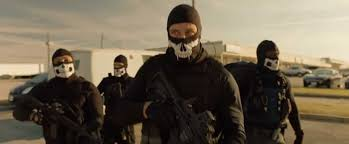gun: (136, 67, 224, 144), (8, 89, 102, 141), (102, 73, 138, 134)
